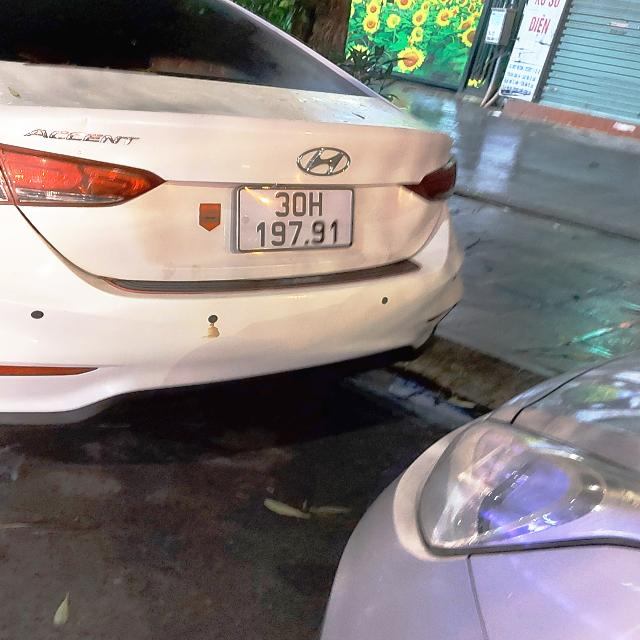license_plate: (228, 181, 363, 260)
